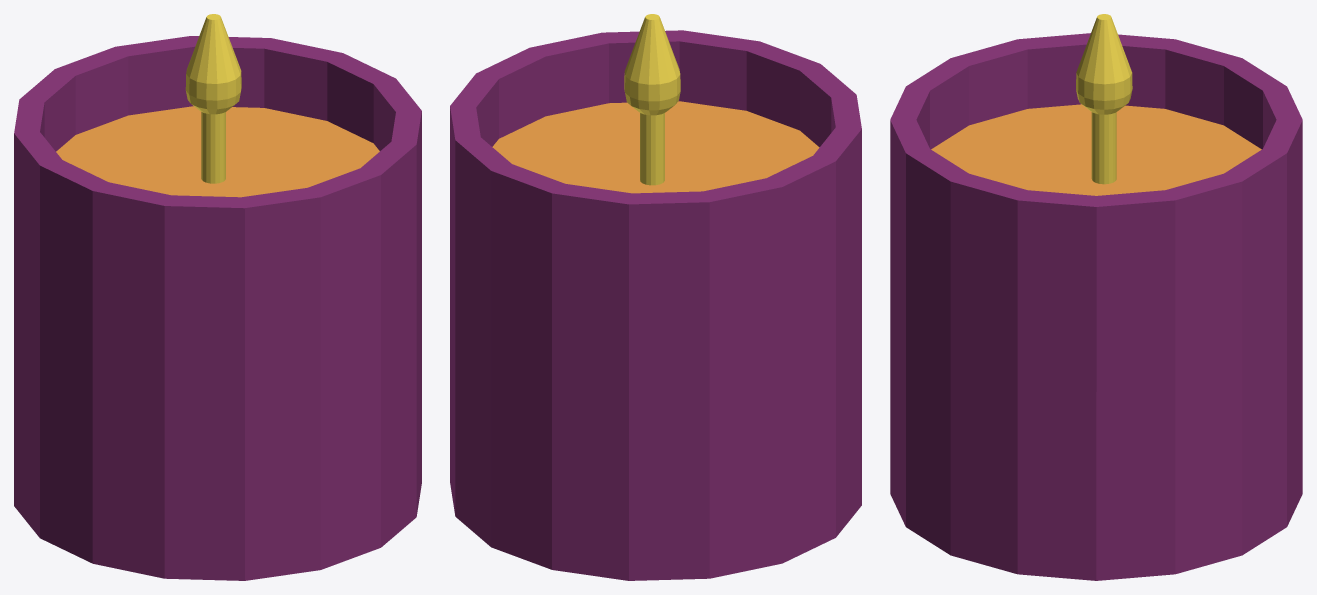
The model's file is SmallCandle.fbx.
3 renders of one model, left to right at view 1: azimuth 30°, elevation 25°; view 2: azimuth 150°, elevation 25°; view 3: azimuth 270°, elevation 25°, orthographic.
Parts seen in each view (by area): view 1: SmallCandle; view 2: SmallCandle; view 3: SmallCandle.
Boxes of the visible parts, x1,y1,x2,y2 form: SmallCandle: (14, 14, 421, 580); SmallCandle: (450, 14, 861, 580); SmallCandle: (890, 14, 1302, 580).
Size of the model in its own units: 100 by 127 by 100.
